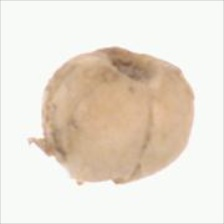L3: (75, 172, 148, 186)
L4: (32, 45, 194, 185)
